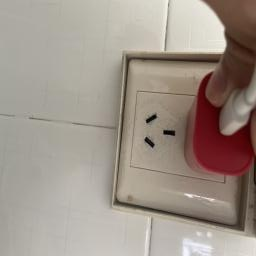outlet: (101, 47, 256, 228)
